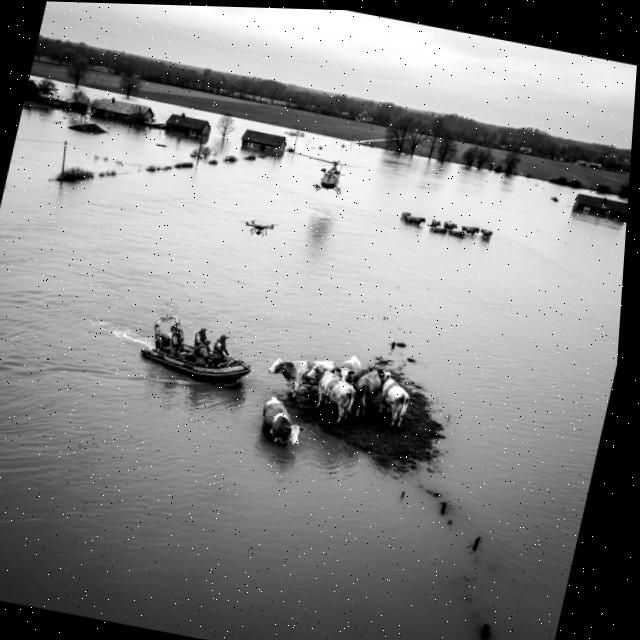cow: (258, 347, 342, 407), (295, 360, 365, 429), (252, 393, 312, 457), (368, 369, 421, 435), (347, 358, 384, 423), (334, 351, 363, 388), (402, 213, 429, 230), (445, 227, 470, 243), (458, 224, 481, 241), (428, 222, 450, 239), (478, 227, 497, 243), (441, 219, 460, 233), (396, 210, 414, 223), (429, 216, 443, 230)
rescuer: (164, 319, 190, 359), (209, 331, 235, 371), (190, 322, 212, 363), (192, 333, 215, 368)
